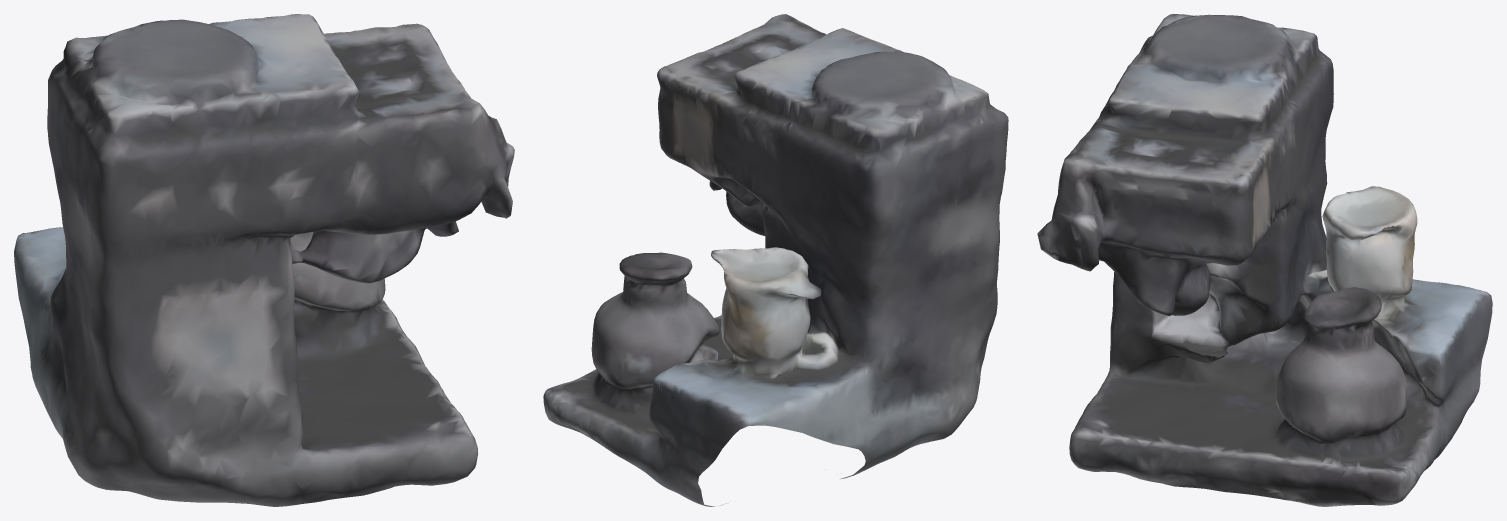
The picture shows the model from 3 angles, left to right: view 1: azimuth 30°, elevation 25°; view 2: azimuth 150°, elevation 25°; view 3: azimuth 270°, elevation 25°; orthographic projection. The views are drawn at different scales.
Parts seen in each view (by area): view 1: geometry_0; view 2: geometry_0; view 3: geometry_0.
Part boxes in pixels (left/top/right/bottom): geometry_0: left=14, top=14, right=514, bottom=506; geometry_0: left=543, top=14, right=1008, bottom=506; geometry_0: left=1037, top=14, right=1492, bottom=506.
Bounding box in the file's own units: 1.77 × 1.84 × 2.
